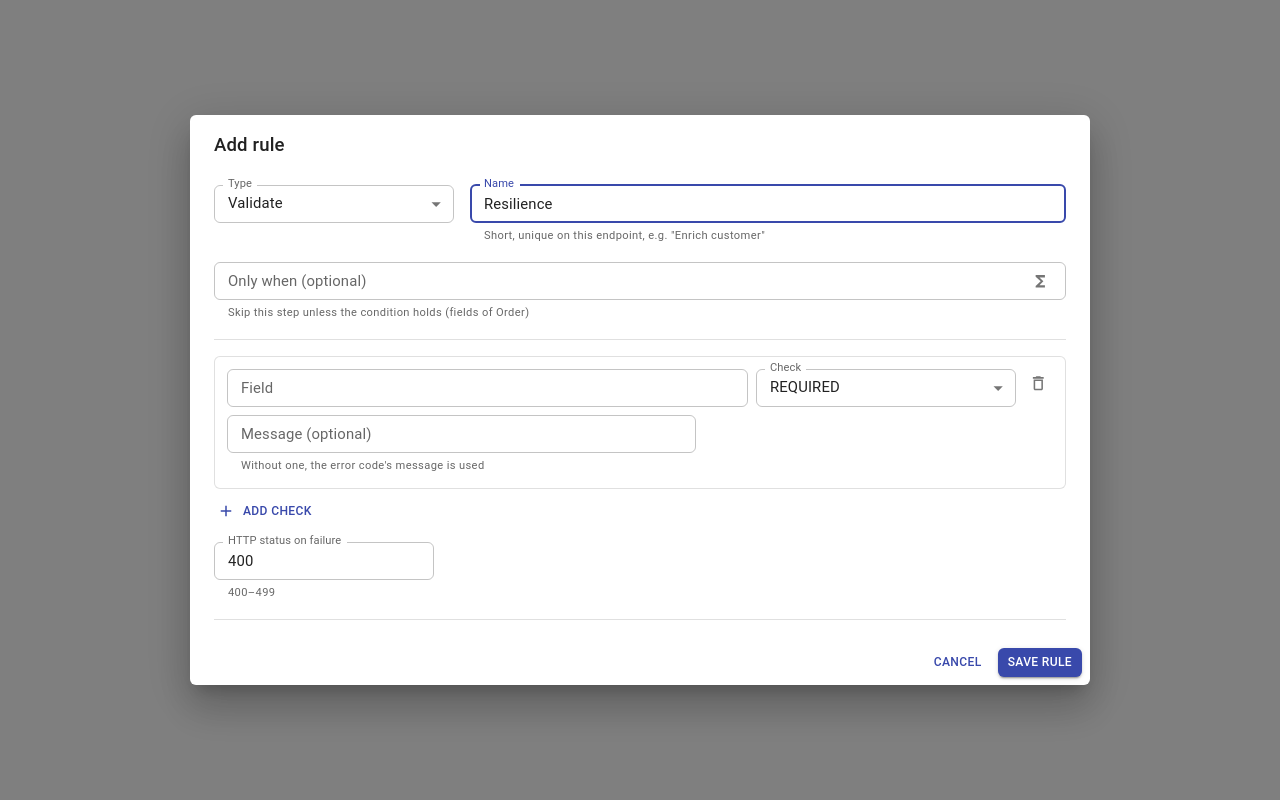
Test: RuleDialog › switches the form when the type changes, and toggles error-handling parts
Later steps or results of the test are not shown.
Step 1. Click the dropdown named "Type" → (255, 203), box x1=228 y1=194 x2=283 y2=212
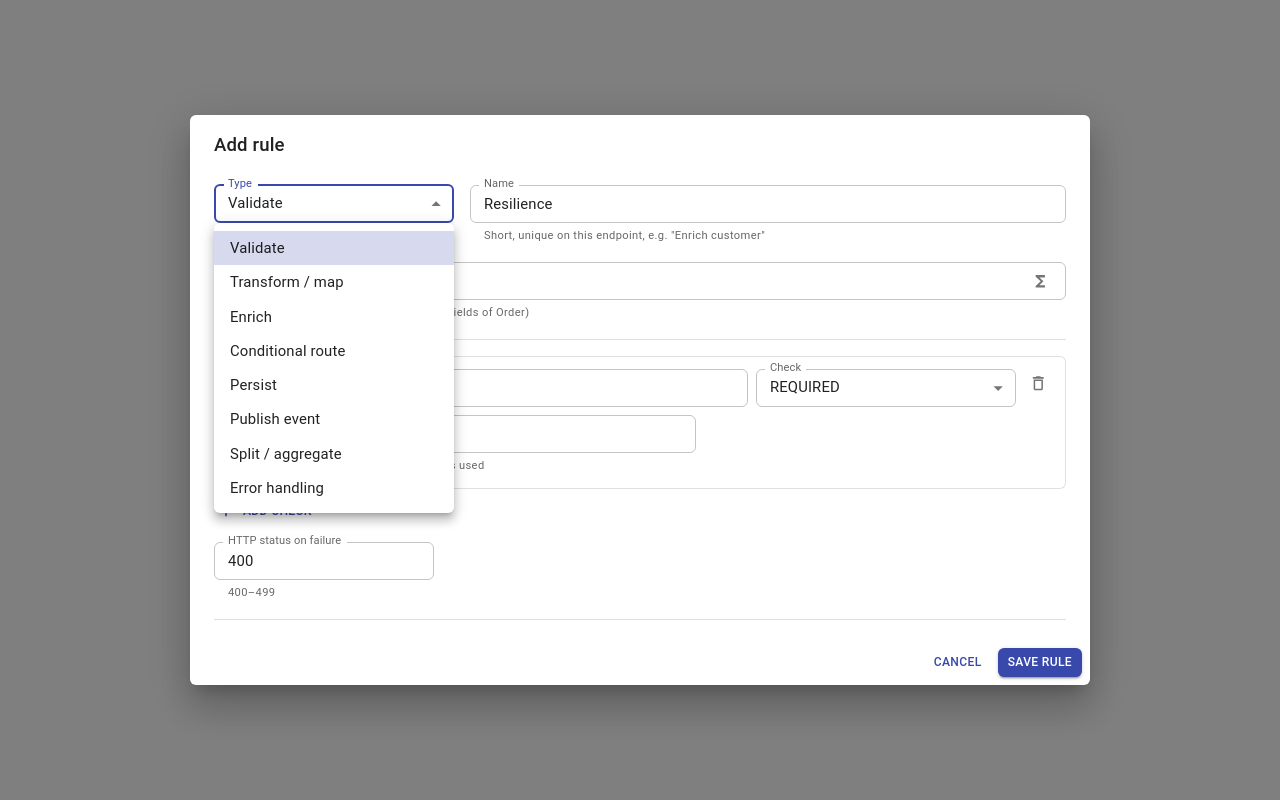
Step 2. Click the option "Error handling" → (277, 488), box x1=230 y1=479 x2=324 y2=497
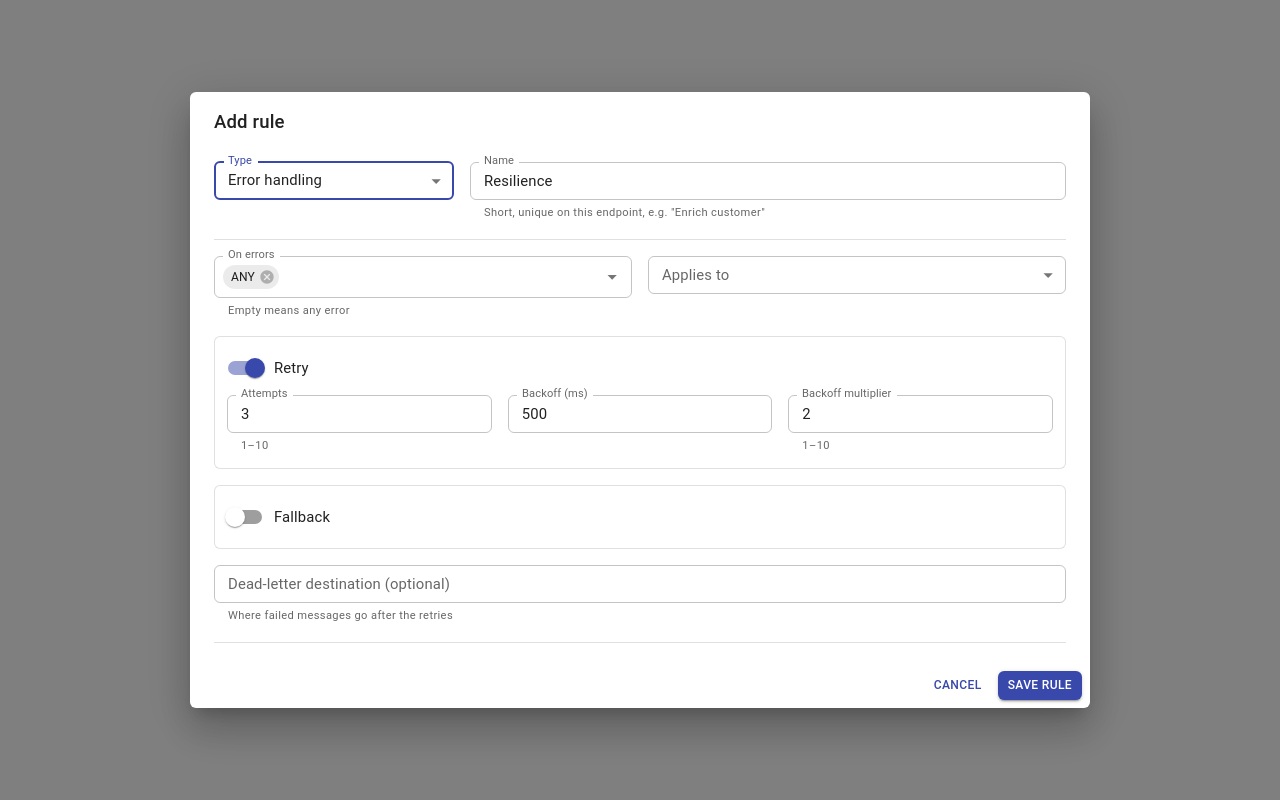
Now the label labelled "Only when (optional)" is gone
